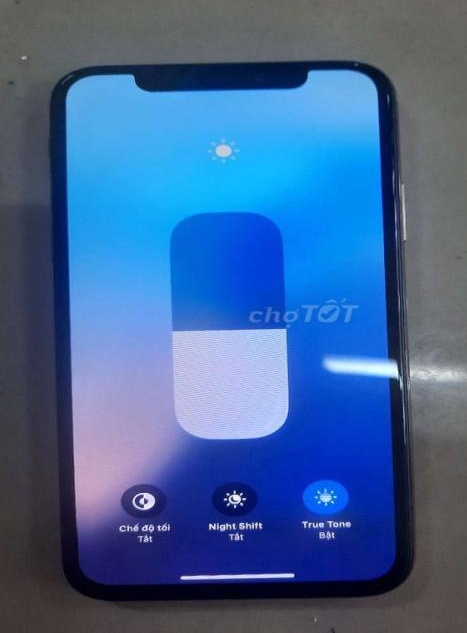scratch: (346, 58, 368, 71)
